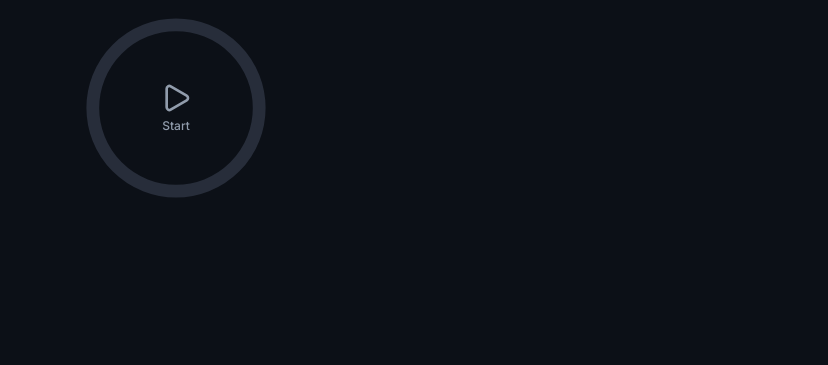
Test: B332 — guided timer never advances the counter unattended › holds the rest instead of advancing the set when the app was away
Click the button "Start" at coordinates (176, 108), box [160,82,192,134]
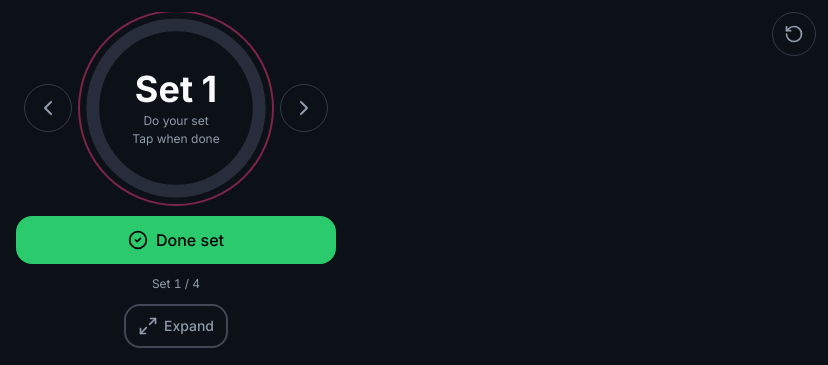
Click the button "Done set" at coordinates (176, 240), box [16,216,336,264]
Wait 1000 ms
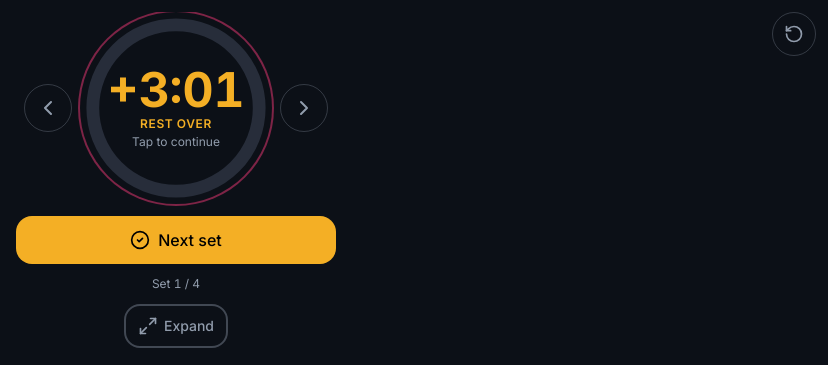
Now the text "Set 1 / 4" is shown, box [152,276,200,292]
Now the text "REST OVER" is shown, box [140,116,212,132]
